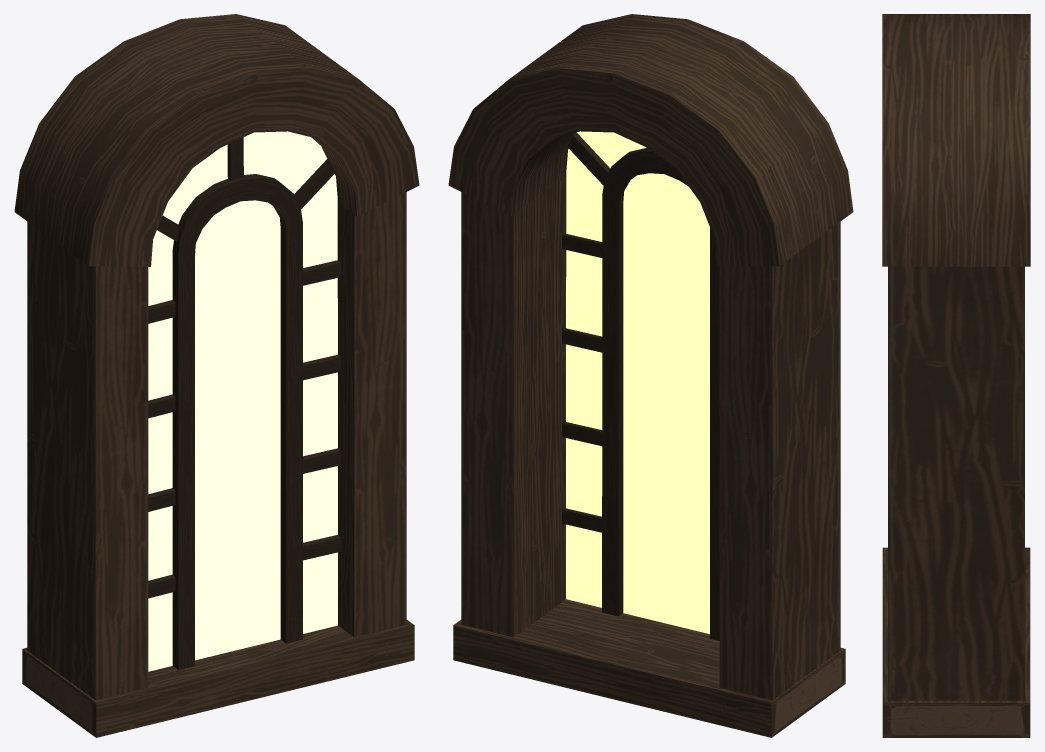
The model's file is Window_Thin_Round1.gltf.
3 views of the same model, side by side, from view 1: azimuth 30°, elevation 25°; view 2: azimuth 150°, elevation 25°; view 3: azimuth 270°, elevation 25° (orthographic).
Parts seen in each view (by area): view 1: Window_Thin_Round1; view 2: Window_Thin_Round1; view 3: Window_Thin_Round1.
Part boxes in pixels (x1,y1,x2,y2): Window_Thin_Round1: (14,14,419,737); Window_Thin_Round1: (448,14,853,737); Window_Thin_Round1: (882,14,1030,737).
Size of the model in its own units: 0.8876 by 1.6 by 0.3444.
2 materials, 1 textured.
